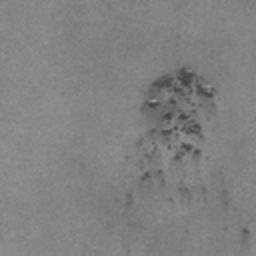Iron sheet ash: (150, 65, 215, 99), (182, 122, 204, 141), (182, 141, 201, 155), (146, 97, 160, 109), (160, 127, 174, 137), (161, 111, 173, 122), (141, 170, 151, 180), (168, 97, 177, 106), (178, 113, 188, 120)
